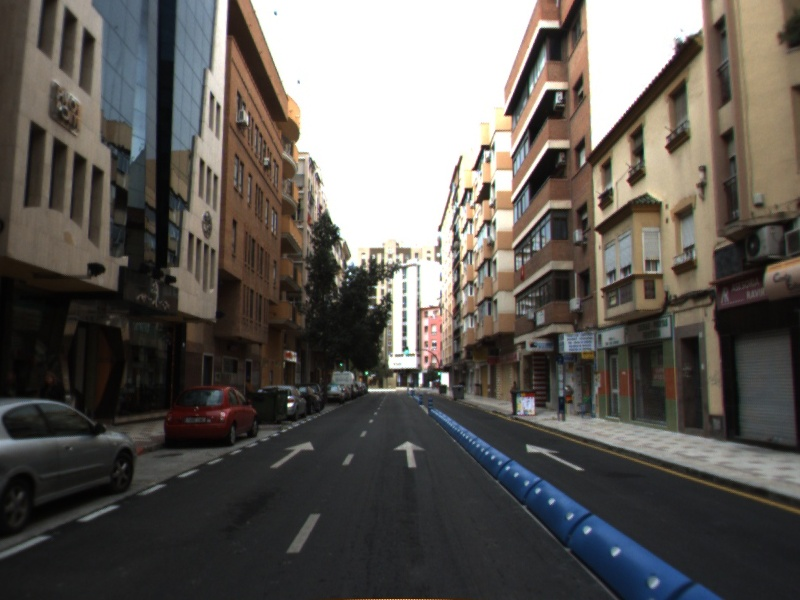STRAIGHT: (525, 442, 586, 472), (268, 440, 316, 470), (392, 439, 427, 469)
